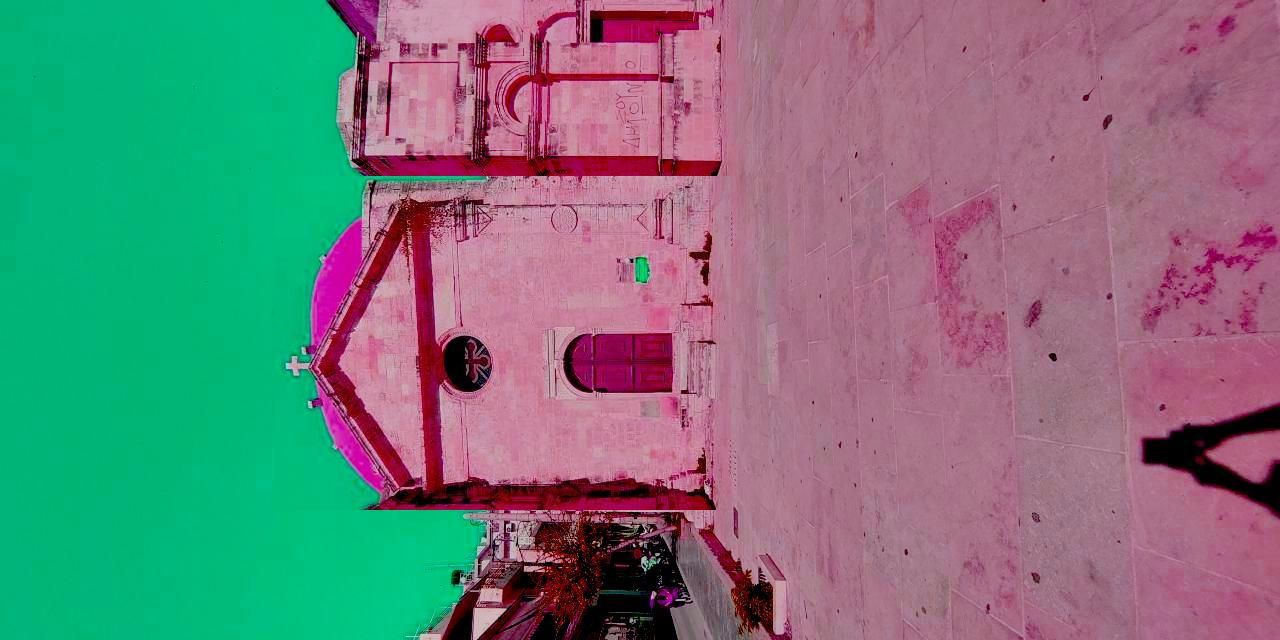Agia Aikaterini: (277, 177, 733, 511)
